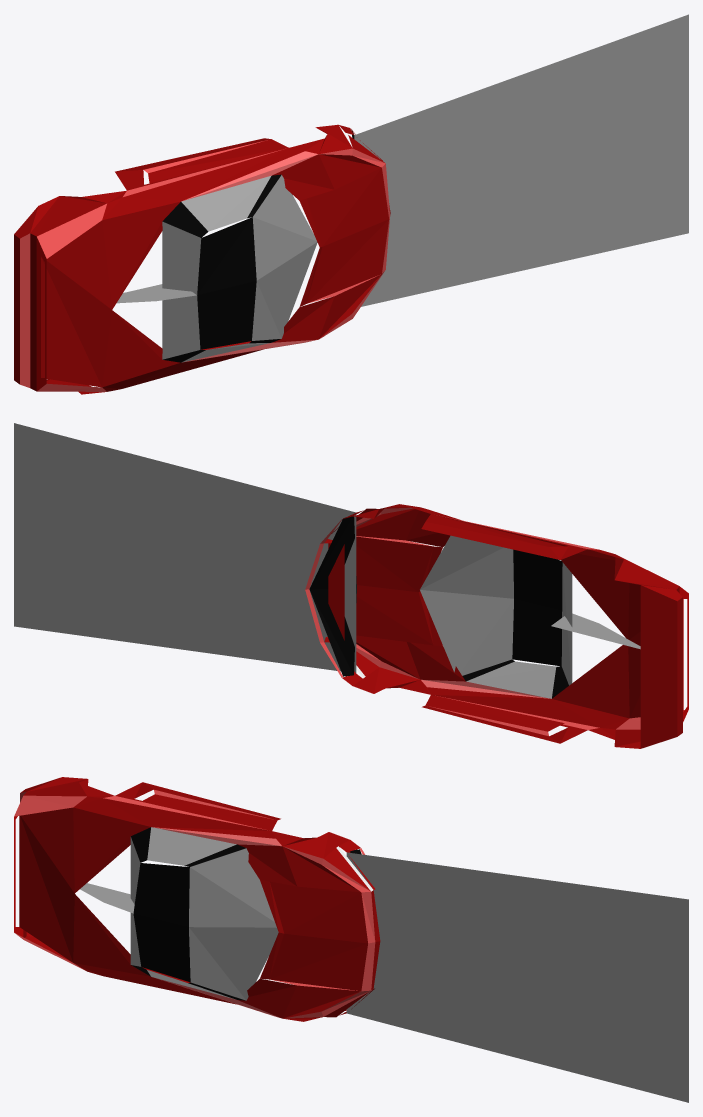
File: cars_4.obj
3 renders of one model, top to bottom at view 1: azimuth 30°, elevation 25°; view 2: azimuth 150°, elevation 25°; view 3: azimuth 330°, elevation 25°, orthographic. The views are drawn at different scales.
Bounding box in the file's own units: 4.78 × 1.44 × 0.63.
